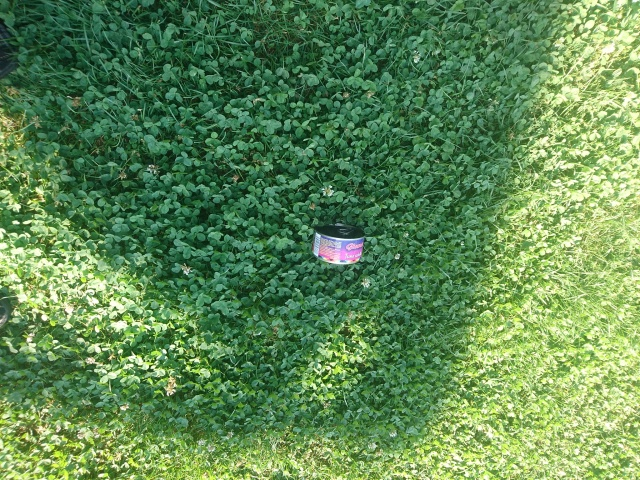Giana Tuna Salad Mexico 185g: (307, 220, 367, 266)
